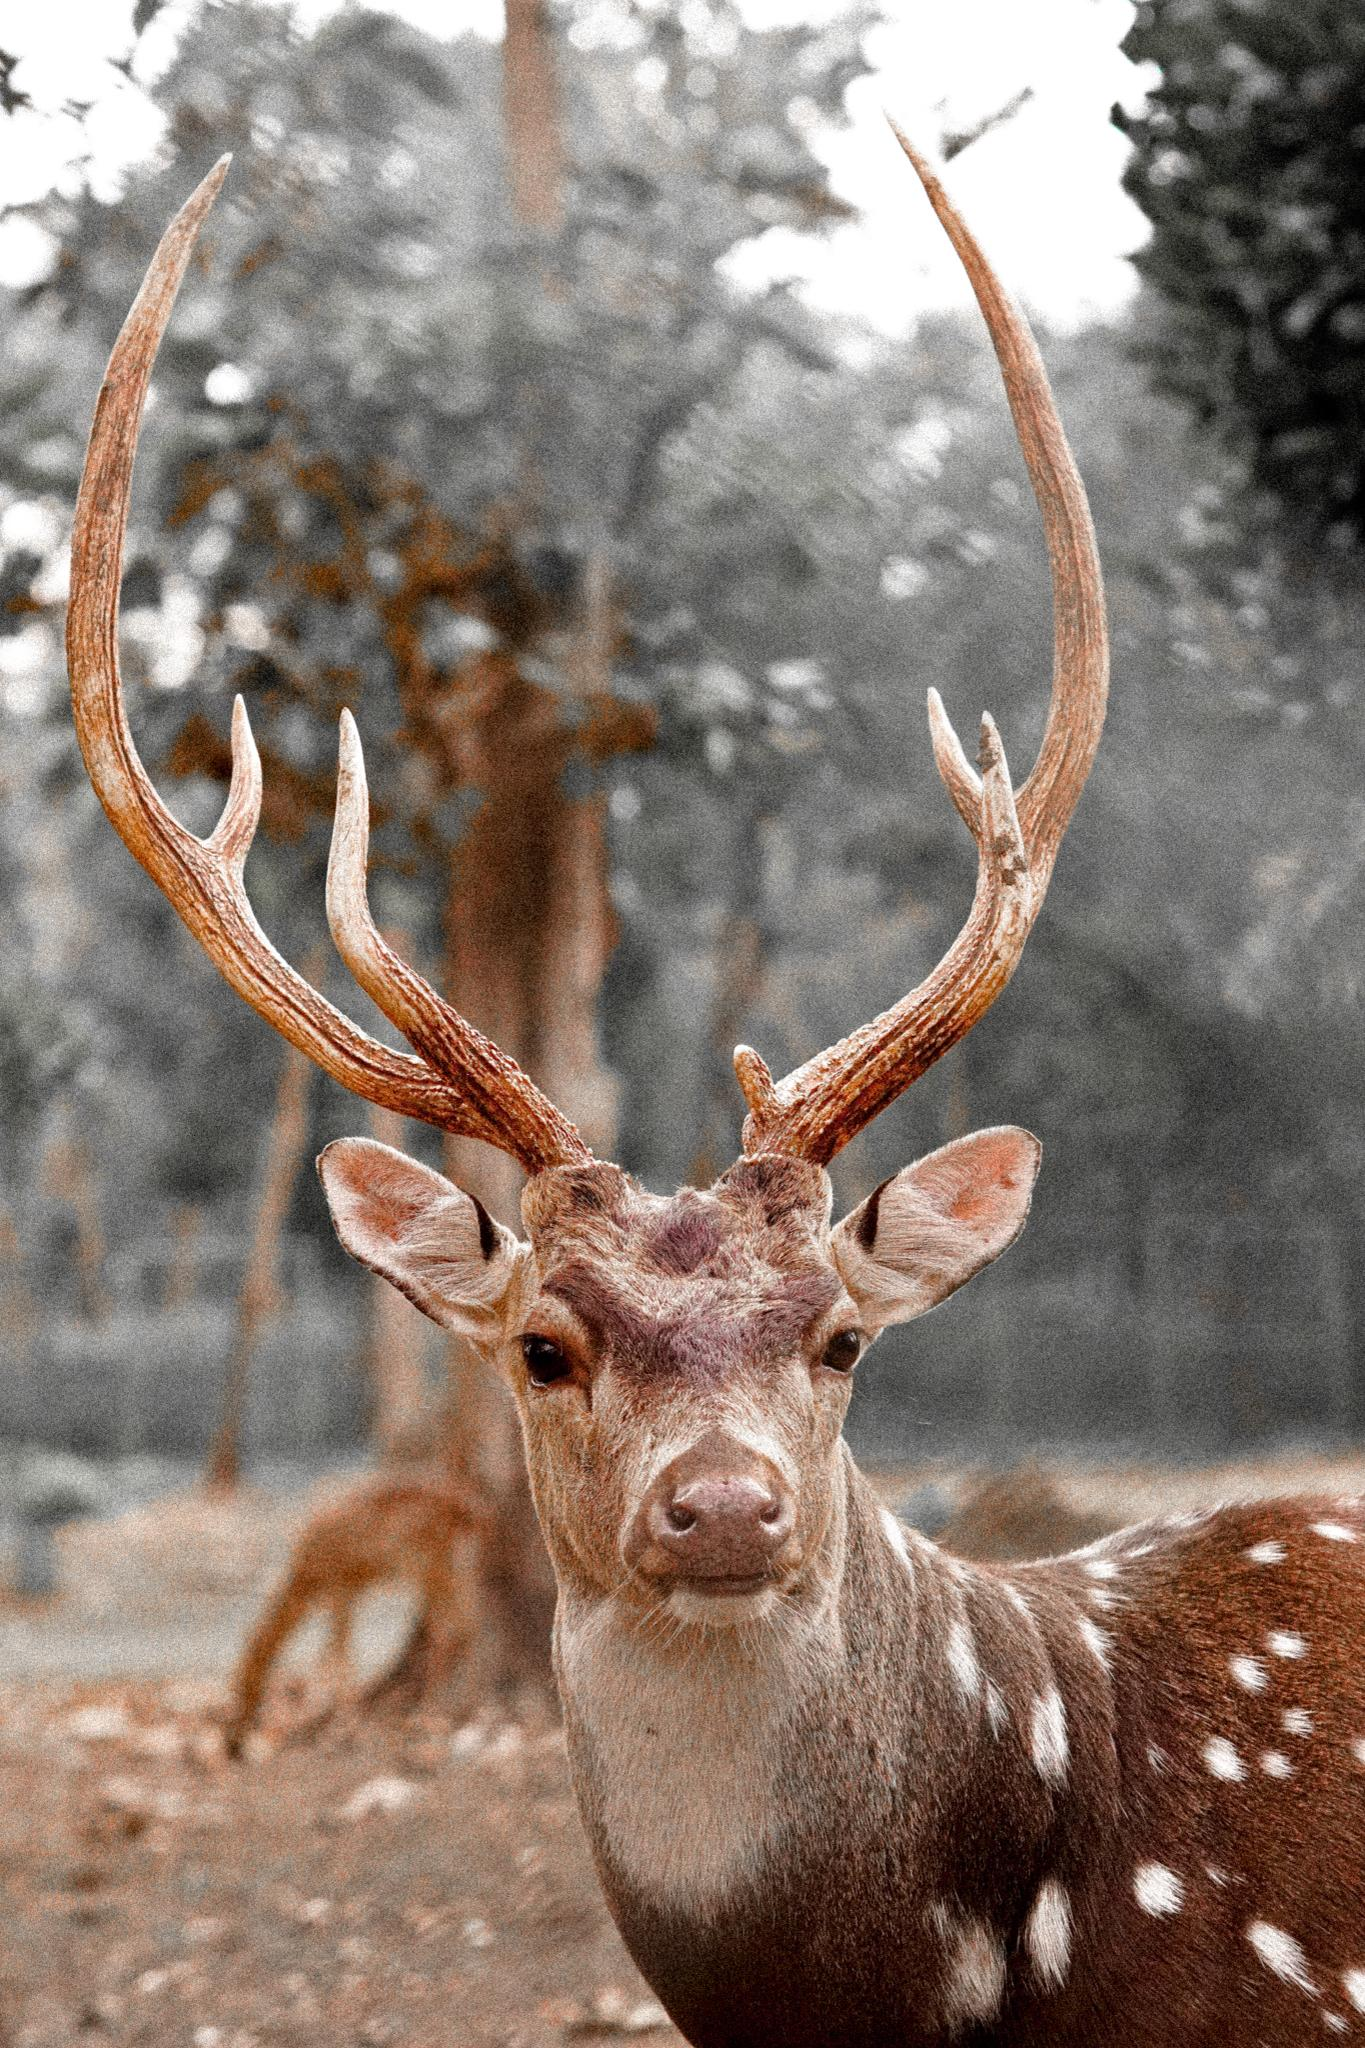Deer: (69, 151, 1360, 2046), (225, 1472, 465, 1756)
